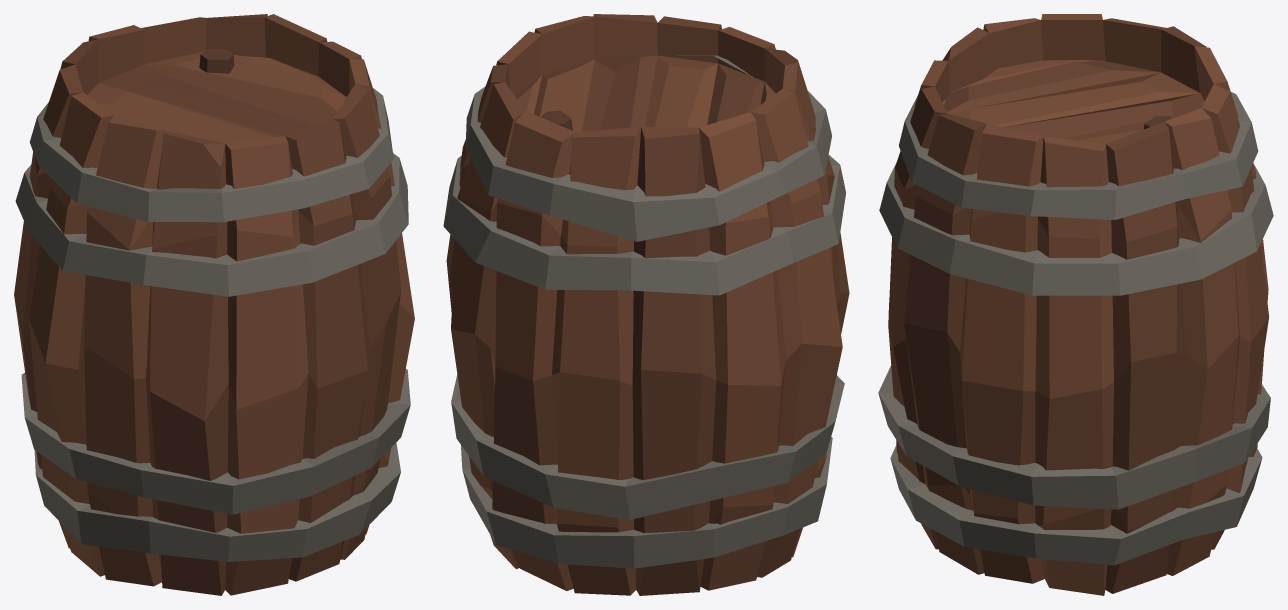
File: Barrel_2.fbx
3 renders of one model, left to right at view 1: azimuth 30°, elevation 25°; view 2: azimuth 150°, elevation 25°; view 3: azimuth 270°, elevation 25°, orthographic. The views are drawn at different scales.
Visible parts, largest first — view 1: Barrel_2; view 2: Barrel_2; view 3: Barrel_2.
Part boxes in pixels (x1,y1,x2,y2): Barrel_2: (14,14,414,595); Barrel_2: (443,14,849,595); Barrel_2: (878,14,1273,595).
Bounding box in the file's own units: 74.85 × 94.32 × 73.4.
